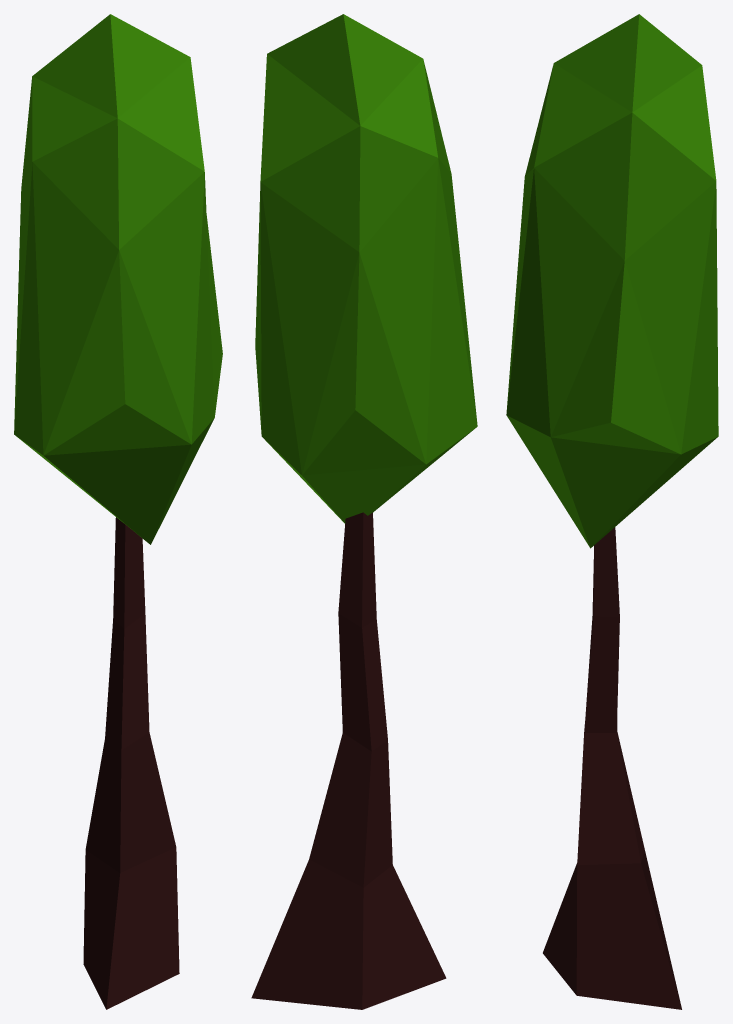
File: treeFour.FBX
3 renders of one model, left to right at view 1: azimuth 30°, elevation 25°; view 2: azimuth 150°, elevation 25°; view 3: azimuth 270°, elevation 25°, orthographic. The views are drawn at different scales.
Parts seen in each view (by area): view 1: Top010, bottom02; view 2: Top010, bottom02; view 3: Top010, bottom02.
Boxes of the visible parts, x1,y1,x2,y2 form: Top010: (14, 14, 222, 544); bottom02: (83, 517, 179, 1009); Top010: (255, 14, 477, 523); bottom02: (251, 512, 446, 1009); Top010: (506, 14, 718, 548); bottom02: (543, 527, 681, 1009).
Size of the model in its own units: 35.27 by 163 by 32.41.
